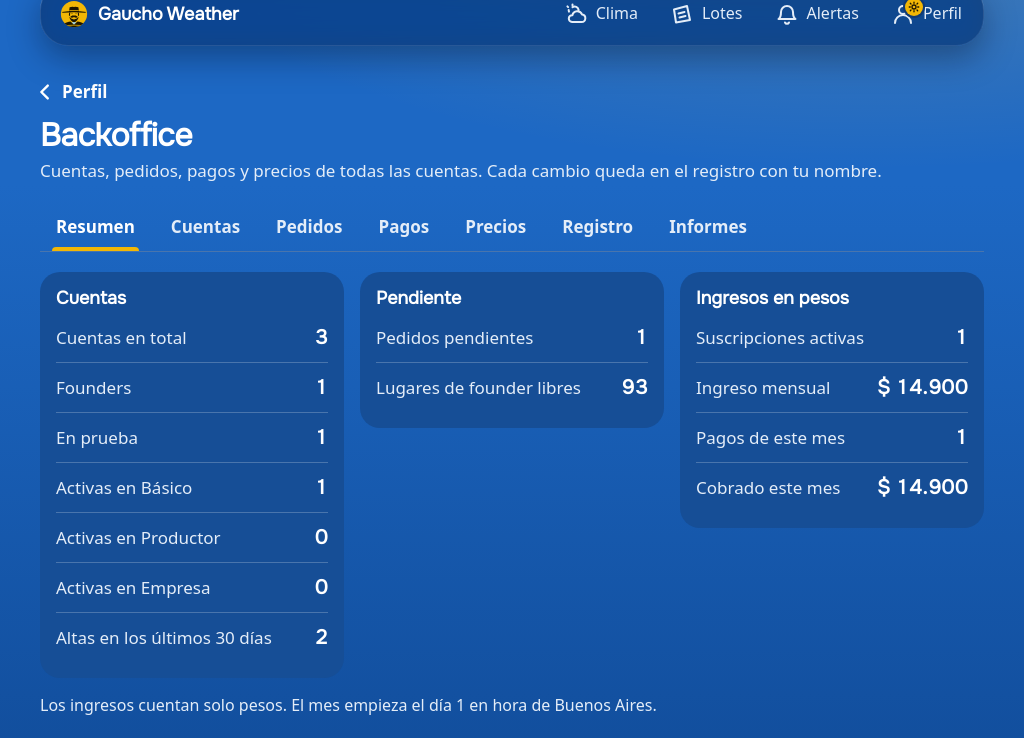
Test case: Scheduled price changes (avisos-cambios S4) › schedules new peso and dollar prices and shows them as pending
The width and height of the screenshot is (1024, 738).
Click the tab "Precios": click(496, 227) [449,203,542,251]
(page scrolled)
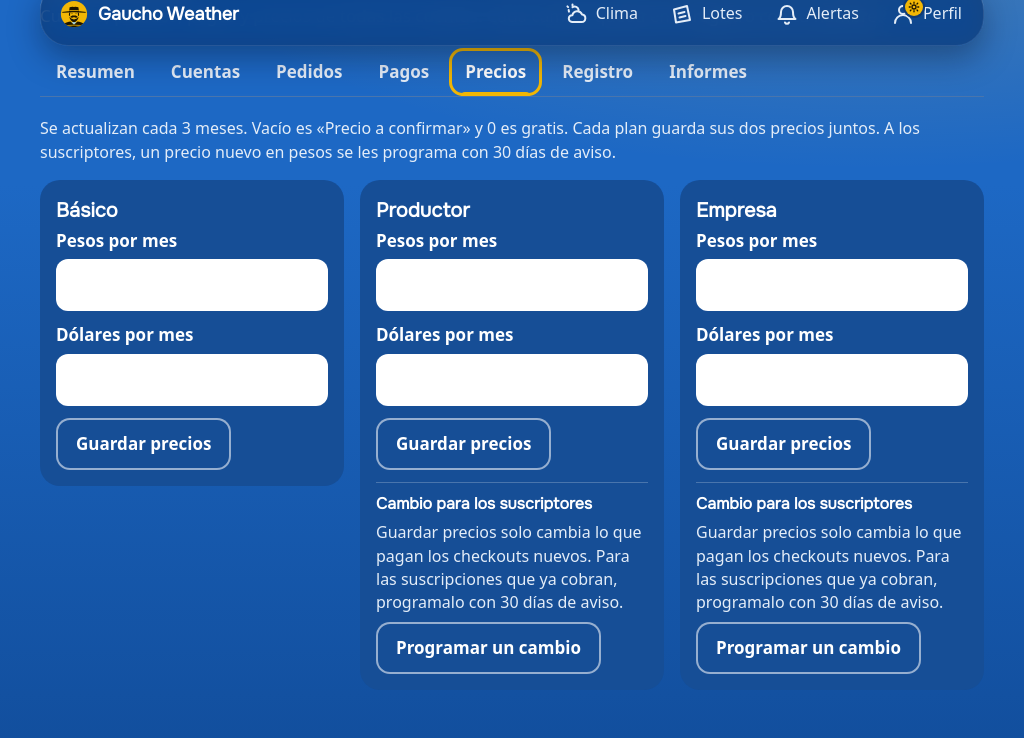
Click the 1st button "Programar un cambio": click(488, 648) [376,622,601,674]
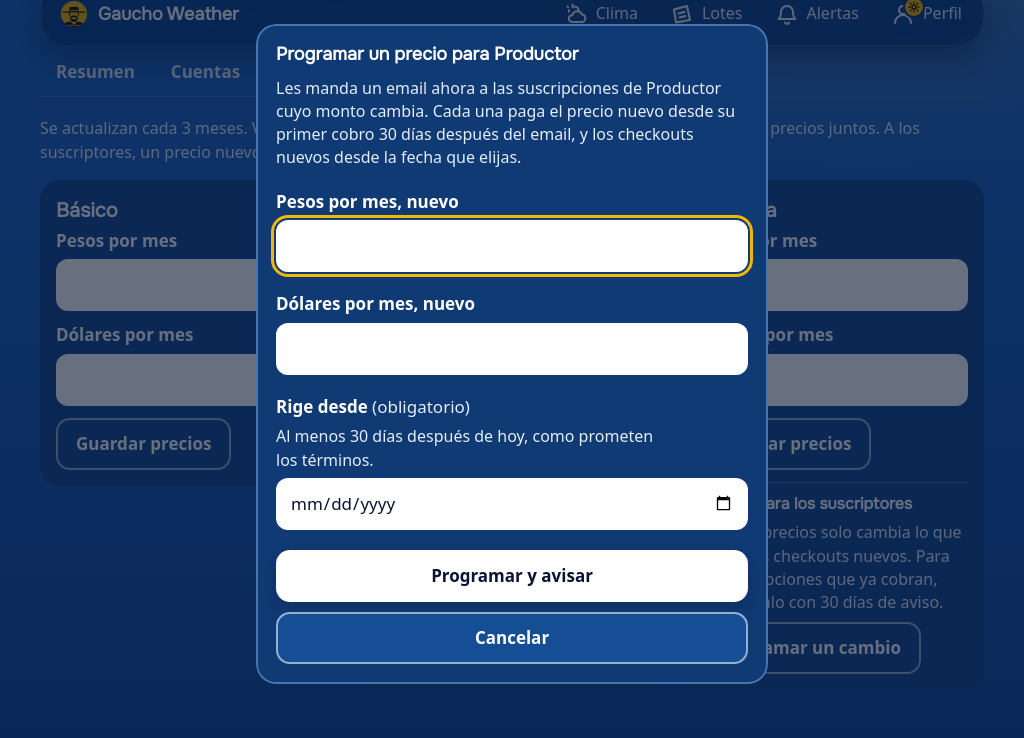
expect the dialog "Programar un precio para Productor" shows "Les manda un email ahora": met, box [276,77,646,99]
In the field labelled "Pesos por mes, nuevo": (512, 246) [276,220,748,272], type "16900"
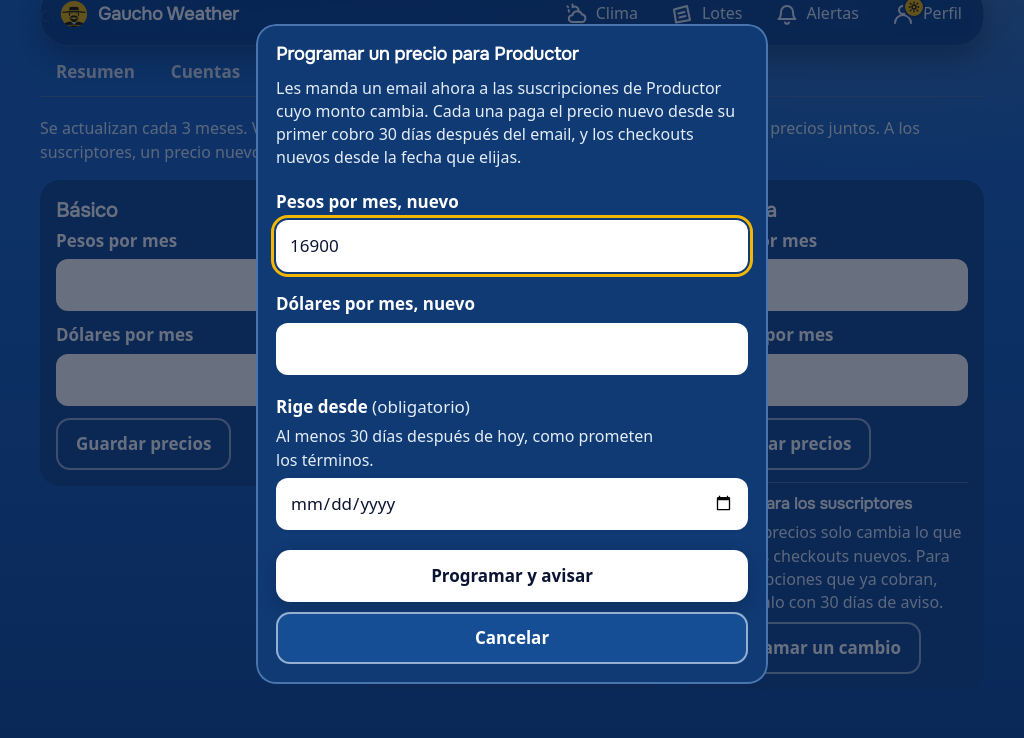
In the field labelled "Dólares por mes, nuevo": (512, 349) [276,323,748,375], type "12"
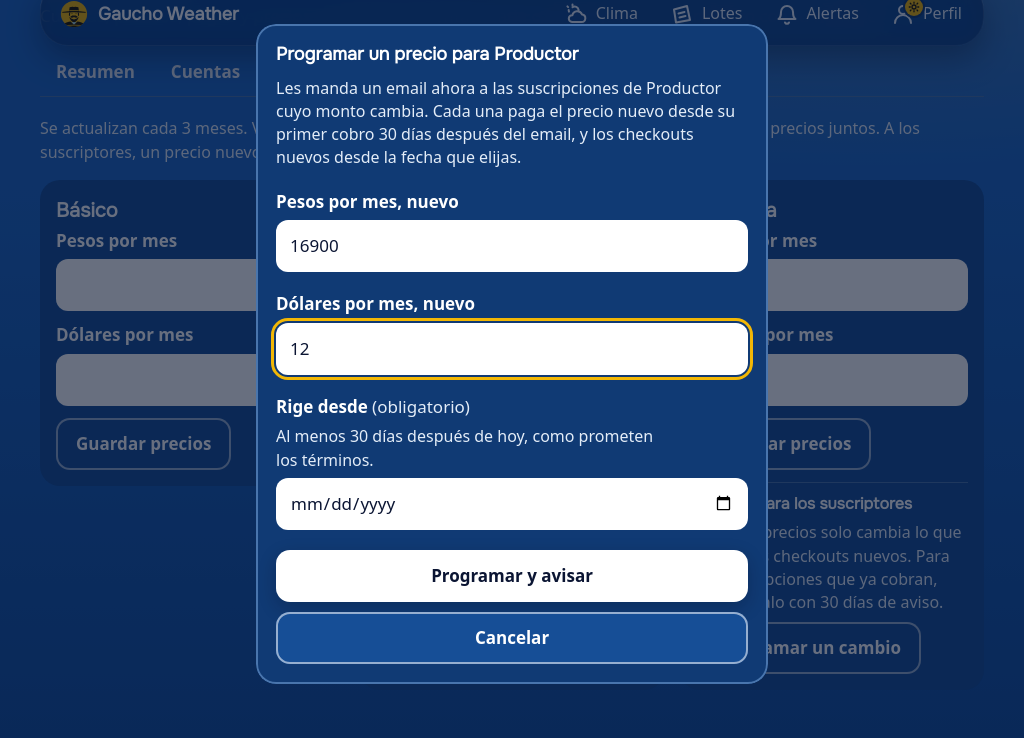
In the date field labelled "Rige desde (obligatorio)": (512, 504) [276,478,748,530], type "2099-12-20"
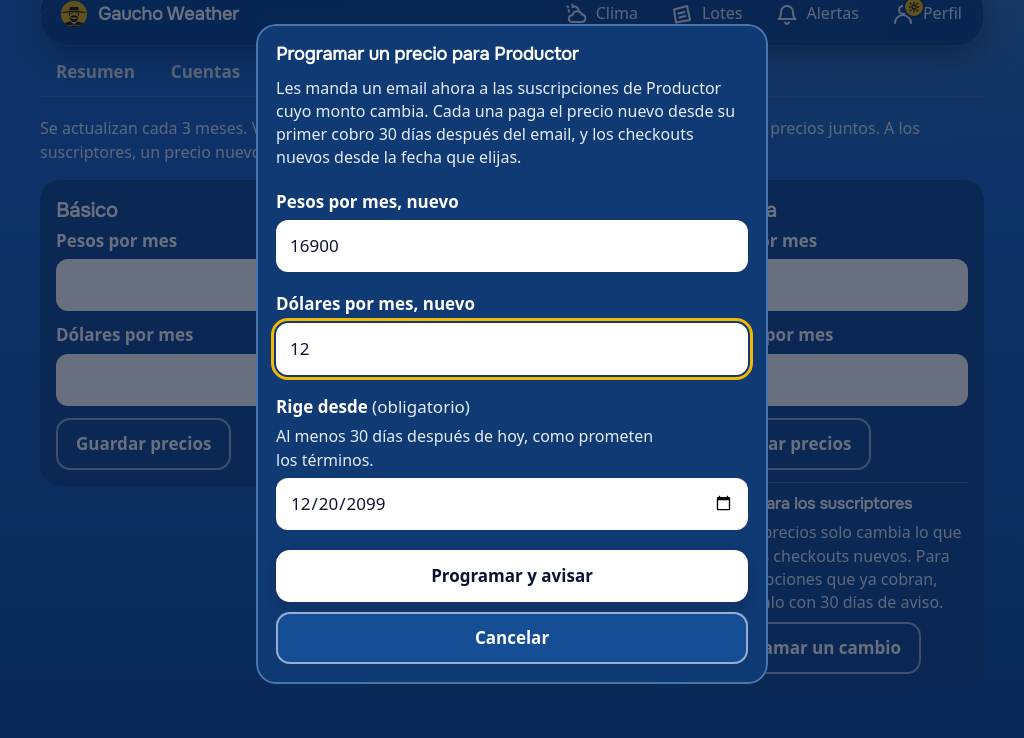
Click the button "Programar y avisar": click(512, 576) [276,550,748,602]
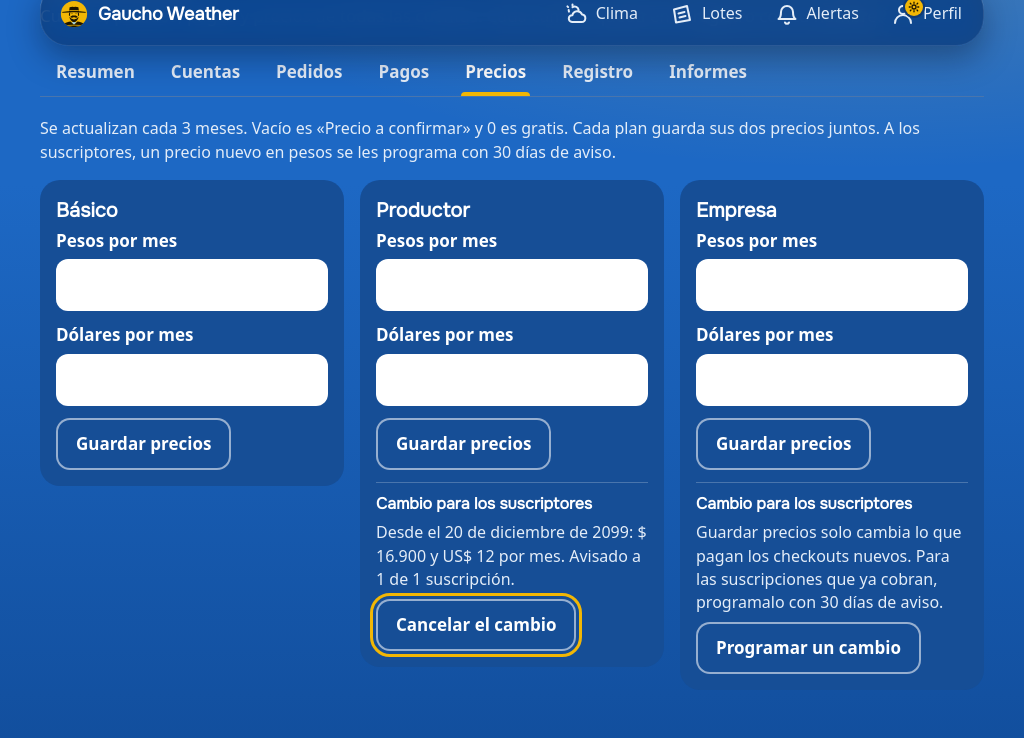
expect the dialog is gone: met
